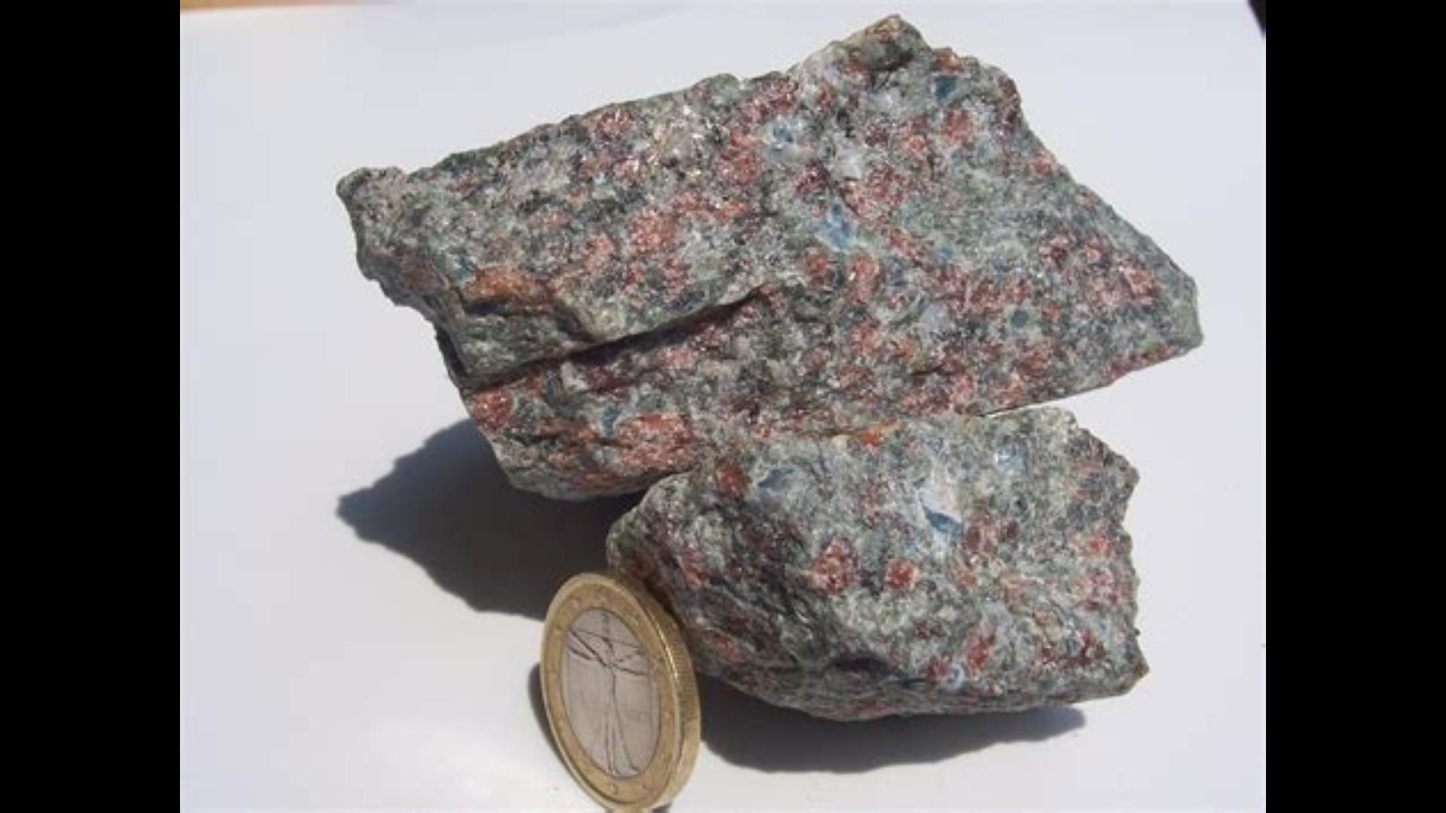rock: (340, 18, 1195, 712)
